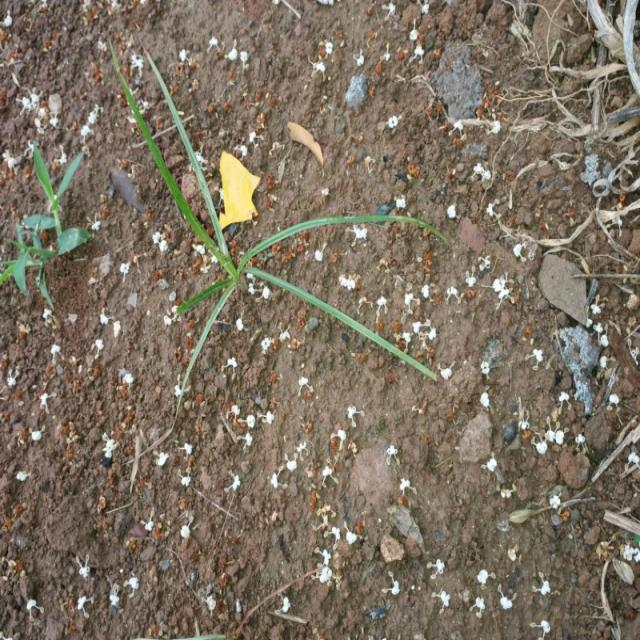sedge: (104, 61, 404, 400)
